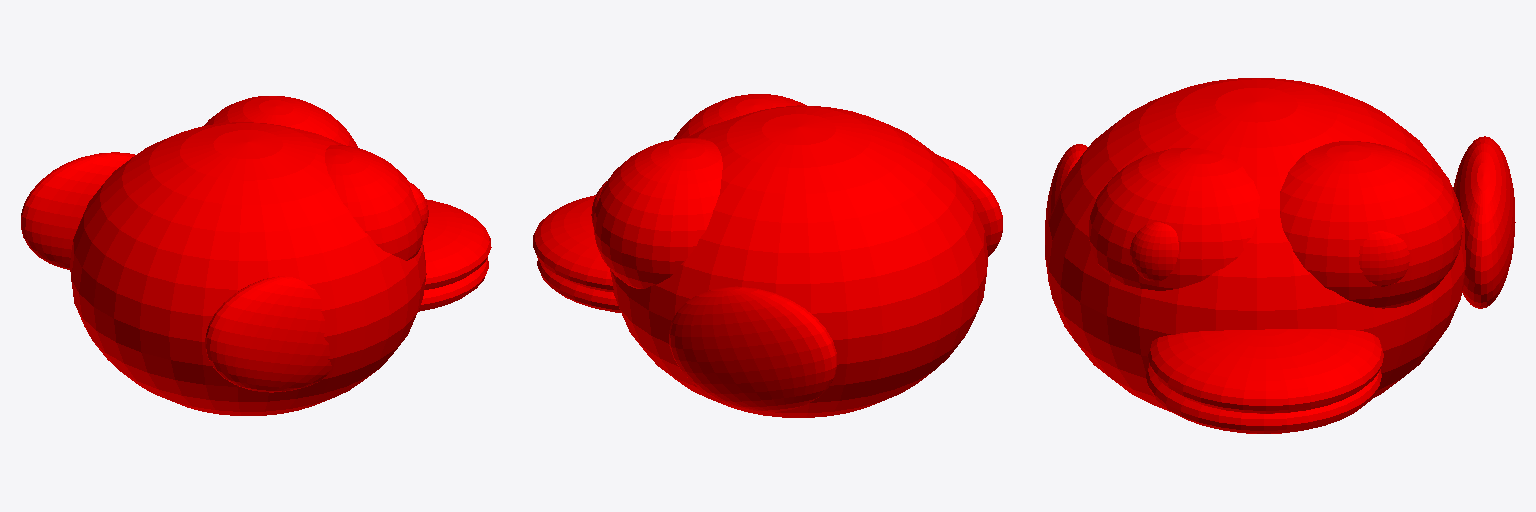
The robot description file, URDF, robot "racer":
<?xml version="1.0" ?>

<robot name="racer">

  <properties arm="0.109" kf="8.47e-9" km="2.13e-11" thrust2weight="4.17" max_speed_kmh="200" gnd_eff_coeff="11.36859" prop_radius="12.7e-2" drag_coeff_xy="9.1785e-7" drag_coeff_z="10.311e-7" dw_coeff_1="2267.18" dw_coeff_2=".16" dw_coeff_3="-.11" />

  <link name="base_link"> 

    <inertial>
      <origin rpy="0 0 0" xyz="0 0 0"/>
      <mass value="0.830"/>
      <inertia ixx=".003113" ixy="0.0" ixz="0.0" iyy=".003113" iyz="0.0" izz=".003113"/>
    </inertial>

    <visual>
      <origin rpy="0 0 0" xyz="0 0 0"/>
      <geometry>
        <mesh filename="./model.dae" scale="0.4 0.4 0.4"/>
      </geometry> 
      <material name="bird_color">
        <color rgba="1 0 0 1"/>
      </material> 
    </visual>

    <collision>
      <origin rpy="0 0 0" xyz="0 0 0"/>
      <geometry>
        <cylinder radius=".06" length=".025"/>
      </geometry>
    </collision>  

  </link>

  <link name="prop0_link">
    <inertial>
      <origin rpy="0 0 0" xyz="0.0850 0.0675 0"/>
      <mass value="0"/>
      <inertia ixx="0" ixy="0" ixz="0" iyy="0" iyz="0" izz="0"/>
    </inertial>
  </link>
  <joint name="prop0_joint" type="fixed">
    <parent link="base_link"/>
    <child link="prop0_link"/>
  </joint>

  <link name="prop1_link">
    <inertial>
      <origin rpy="0 0 0" xyz="-0.0850 0.0675 0"/>
      <mass value="0"/>
      <inertia ixx="0" ixy="0" ixz="0" iyy="0" iyz="0" izz="0"/>
    </inertial>
  </link>
  <joint name="prop1_joint" type="fixed">
    <parent link="base_link"/>
    <child link="prop1_link"/>
  </joint>

  <link name="prop2_link">
    <inertial>
      <origin rpy="0 0 0" xyz="-0.085 -0.0675 0"/>
      <mass value="0"/>
      <inertia ixx="0" ixy="0" ixz="0" iyy="0" iyz="0" izz="0"/>
    </inertial>
  </link>
  <joint name="prop2_joint" type="fixed">
    <parent link="base_link"/>
    <child link="prop2_link"/>
  </joint>

  <link name="prop3_link">
    <inertial>
      <origin rpy="0 0 0" xyz="0.085 -0.0675 0"/>
      <mass value="0"/>
      <inertia ixx="0" ixy="0" ixz="0" iyy="0" iyz="0" izz="0"/>
    </inertial>
  </link>
  <joint name="prop3_joint" type="fixed">
    <parent link="base_link"/>
    <child link="prop3_link"/>
  </joint>

  <link name="center_of_mass_link">
    <inertial>
      <origin rpy="0 0 0" xyz="0 0 0"/>
      <mass value="0"/>
      <inertia ixx="0" ixy="0" ixz="0" iyy="0" iyz="0" izz="0"/>
    </inertial>
  </link>
  <joint name="center_of_mass_joint" type="fixed">
    <parent link="base_link"/>
    <child link="center_of_mass_link"/>
  </joint>

</robot>

--- What the picture shows (computed from the rendered views, not written in the file) ---
The picture shows the robot from 3 angles, left to right: view 1: azimuth 30°, elevation 25°; view 2: azimuth 150°, elevation 25°; view 3: azimuth 270°, elevation 25°; orthographic projection.
Robot: racer — 6 links, 5 joints (5 fixed); root link base_link; default pose: all joints at 0.
Visible links, largest first — view 1: base_link; view 2: base_link; view 3: base_link.
Boxes of the visible links, x1=… form: base_link: x1=21, y1=96, x2=491, y2=415; base_link: x1=533, y1=94, x2=1002, y2=417; base_link: x1=1045, y1=78, x2=1515, y2=433.
Size in the robot's own frame: 0.4949 by 0.4371 by 0.3083 metres.
1 mesh visuals loaded from 1 distinct referenced files (1 Collada DAE).